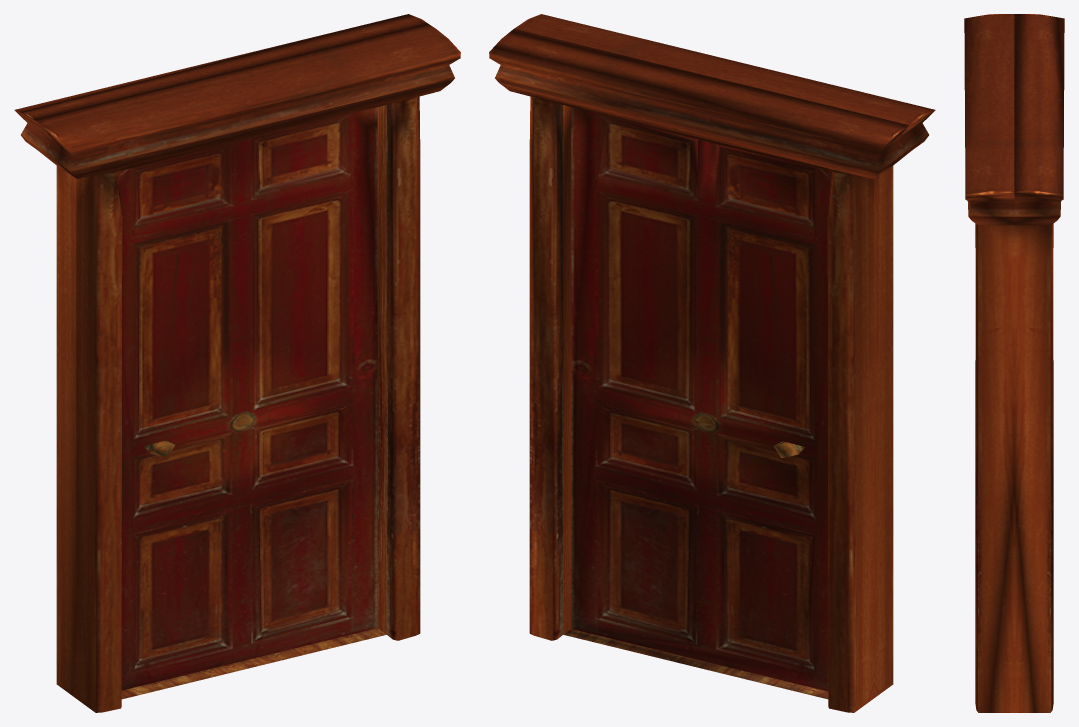
File: door.obj
3 renders of one model, left to right at view 1: azimuth 30°, elevation 25°; view 2: azimuth 150°, elevation 25°; view 3: azimuth 270°, elevation 25°, orthographic. The views are drawn at different scales.
Parts seen in each view (by area): view 1: door, frame; view 2: door, frame; view 3: frame.
Boxes of the visible parts, x1,y1,x2,y2 form: door: (118,107,377,690); frame: (14,14,460,712); door: (571,107,831,691); frame: (489,14,935,712); frame: (964,14,1064,712).
Size of the model in its own units: 60.56 by 85.28 by 14.41.
